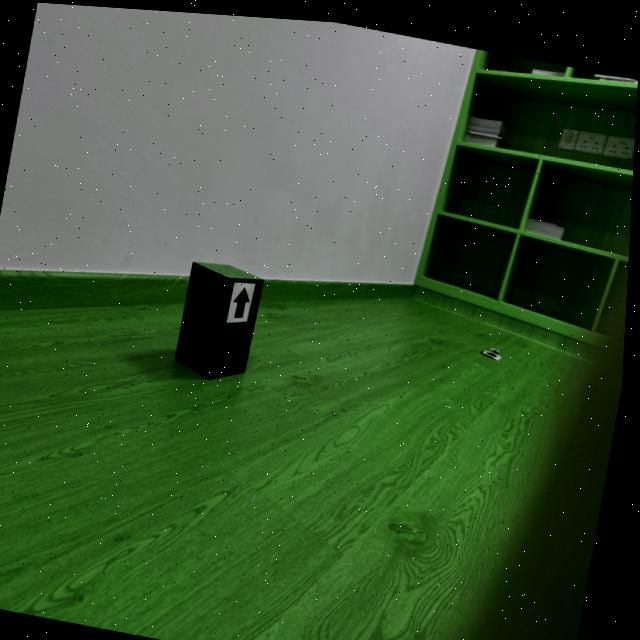UP: (235, 283, 252, 314)
